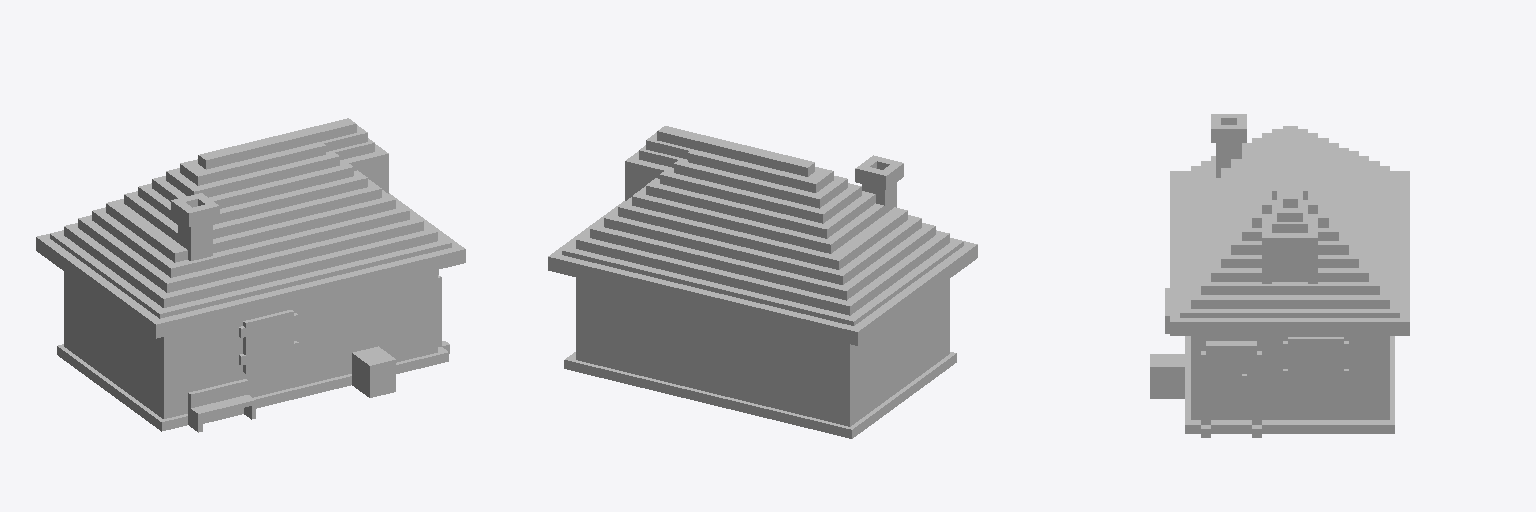
Rendered from map v1.0-4.obj.
3 renders of one model, left to right at view 1: azimuth 30°, elevation 25°; view 2: azimuth 150°, elevation 25°; view 3: azimuth 270°, elevation 25°, orthographic.
Visible parts, largest first — view 1: object 1; view 2: object 1; view 3: object 1.
Boxes of the visible parts, x1,y1,x2,y2 form: object 1: [36, 118, 465, 432]; object 1: [548, 126, 977, 438]; object 1: [1150, 114, 1409, 437].
Bounding box in the file's own units: 7 × 4.6 × 5.1.